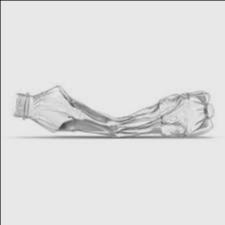Plastic: (14, 83, 215, 142)
